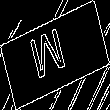M_S: (34, 24, 76, 86)
